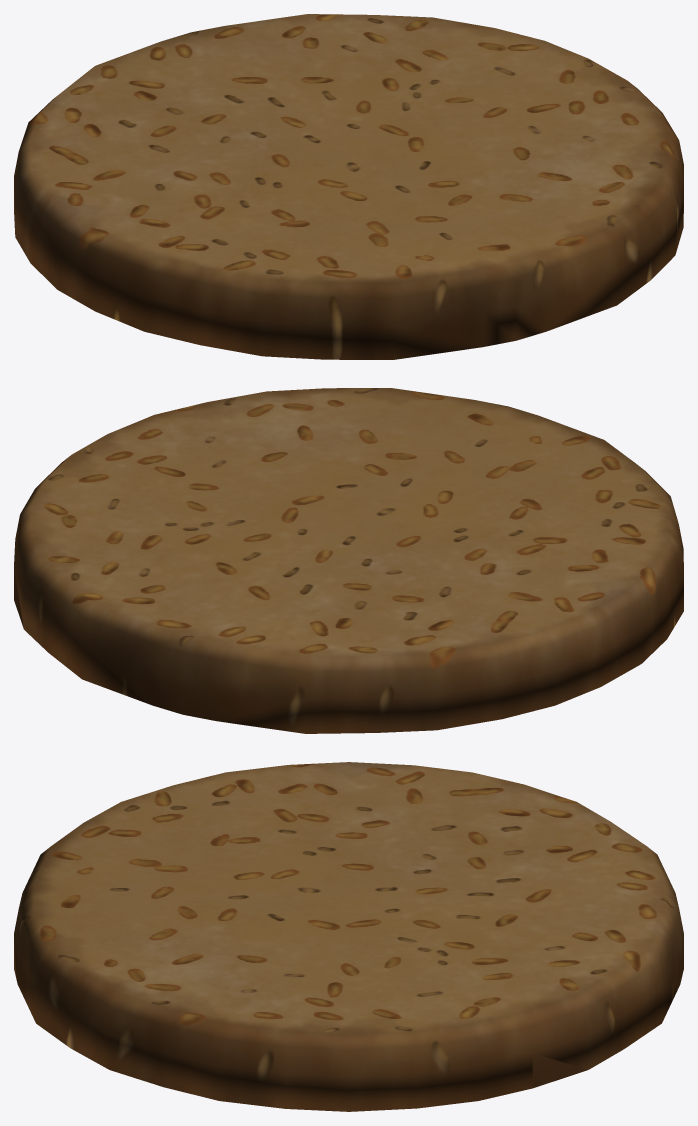
The model's file is GalletaCuatro.obj.
3 renders of one model, top to bottom at view 1: azimuth 30°, elevation 25°; view 2: azimuth 150°, elevation 25°; view 3: azimuth 270°, elevation 25°, orthographic.
Visible parts, largest first — view 1: polySurface26 TapaTarro:polySurface4; view 2: polySurface26 TapaTarro:polySurface4; view 3: polySurface26 TapaTarro:polySurface4.
Boxes of the visible parts, box(x1,y1,x2,y2) form: polySurface26 TapaTarro:polySurface4: box(14, 14, 683, 359); polySurface26 TapaTarro:polySurface4: box(14, 388, 683, 733); polySurface26 TapaTarro:polySurface4: box(14, 762, 683, 1111).
Size of the model in its own units: 0.2226 by 0.0256 by 0.2202.
Materials: 1 (1 with a texture image).
